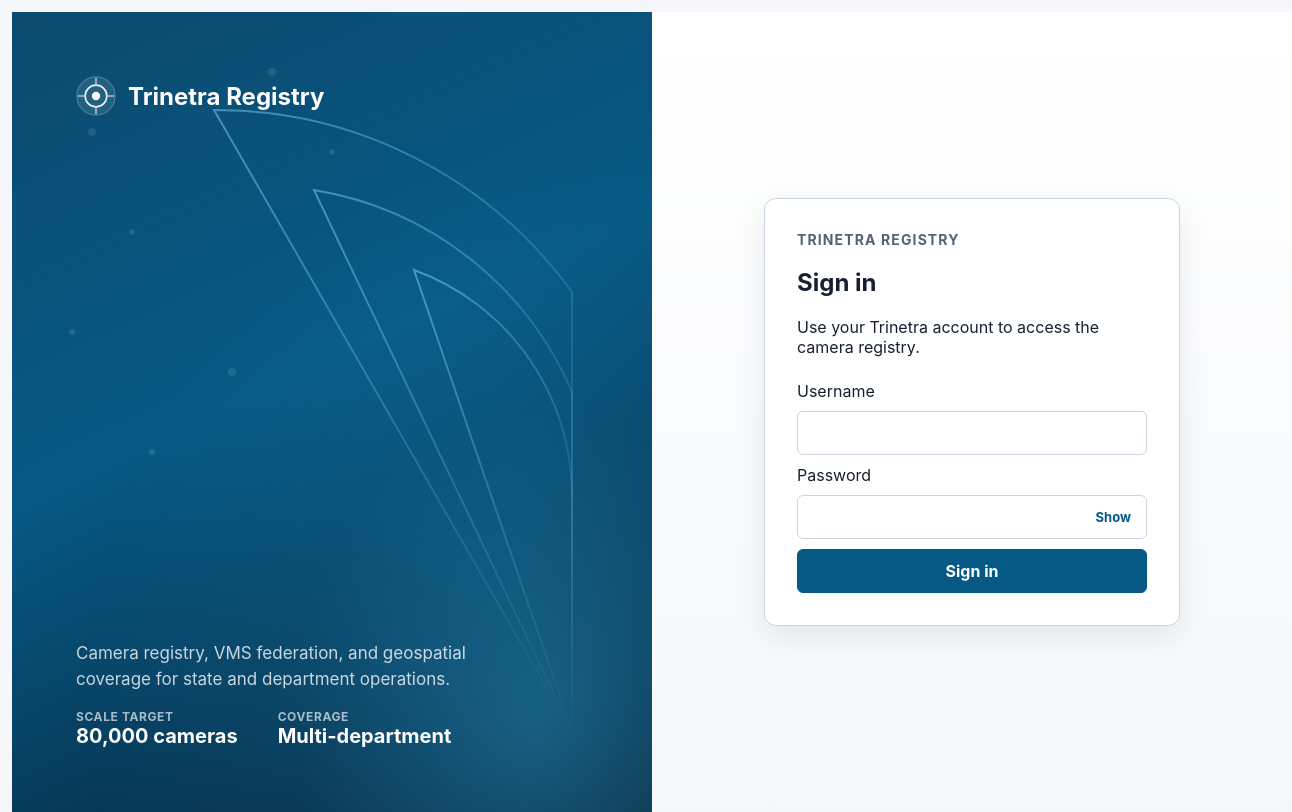
Test: LoginPage › shows a safe inline error when sign-in is rejected
This screenshot has width=1292, height=812.
Type "admin" into the field labelled "Username" at (972, 433), box x1=797 y1=411 x2=1147 y2=455
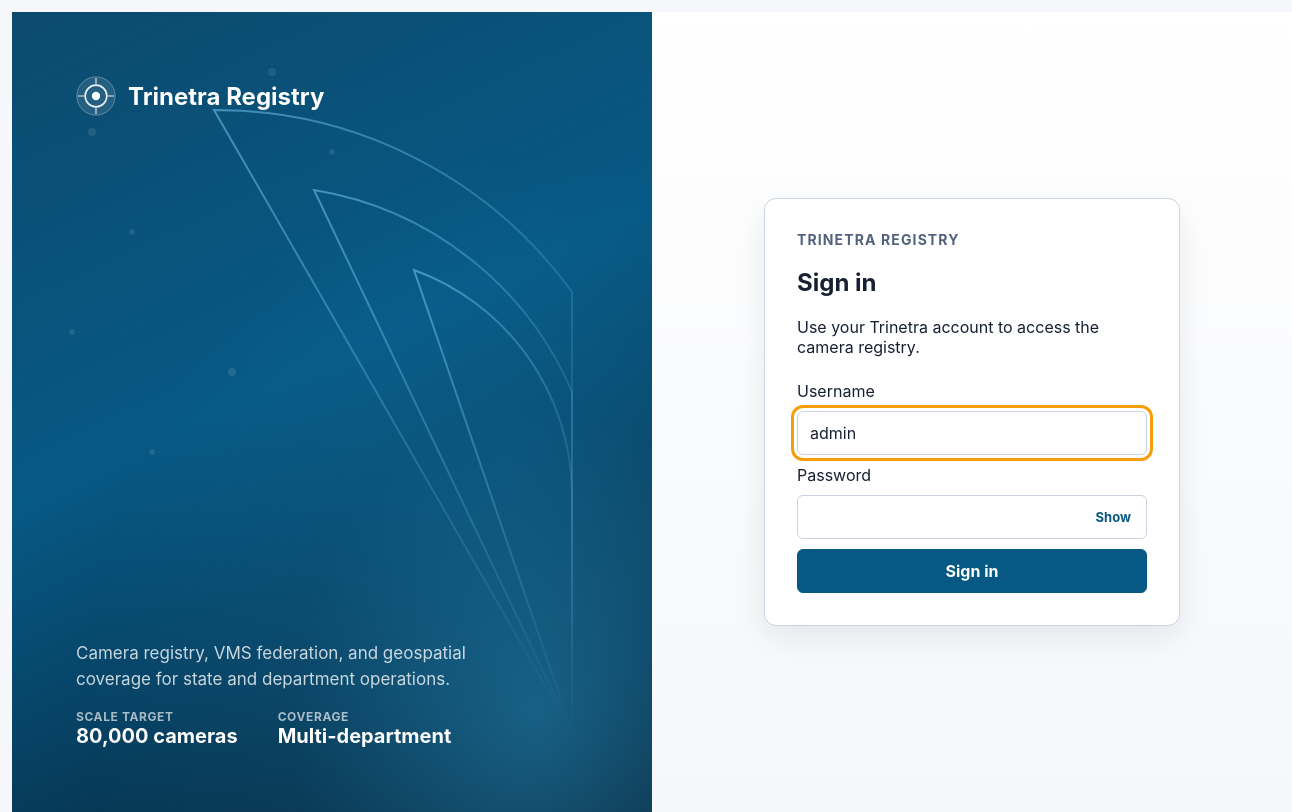
Type "wrong password" into the password field labelled "Password" at (972, 517), box x1=797 y1=495 x2=1147 y2=539
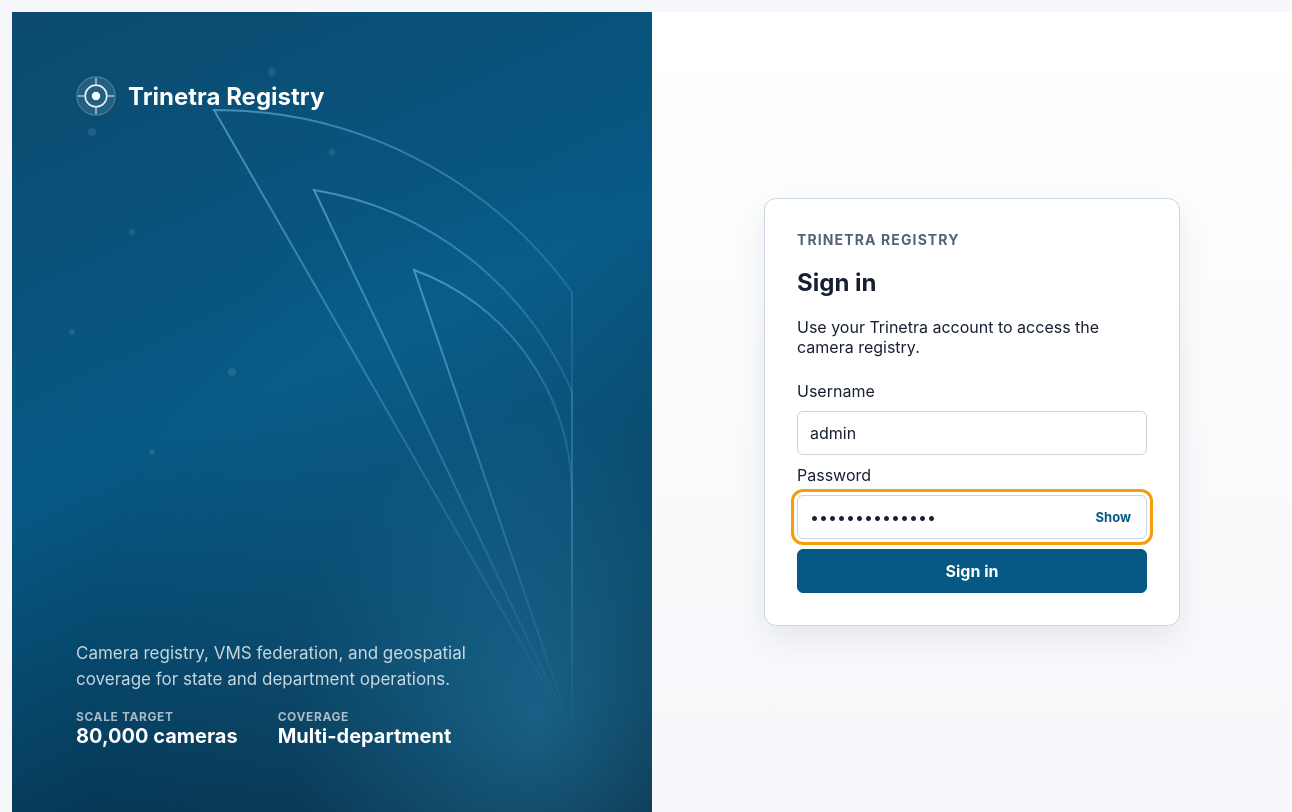
Click the button "Sign in" at (972, 571), box x1=797 y1=549 x2=1147 y2=593
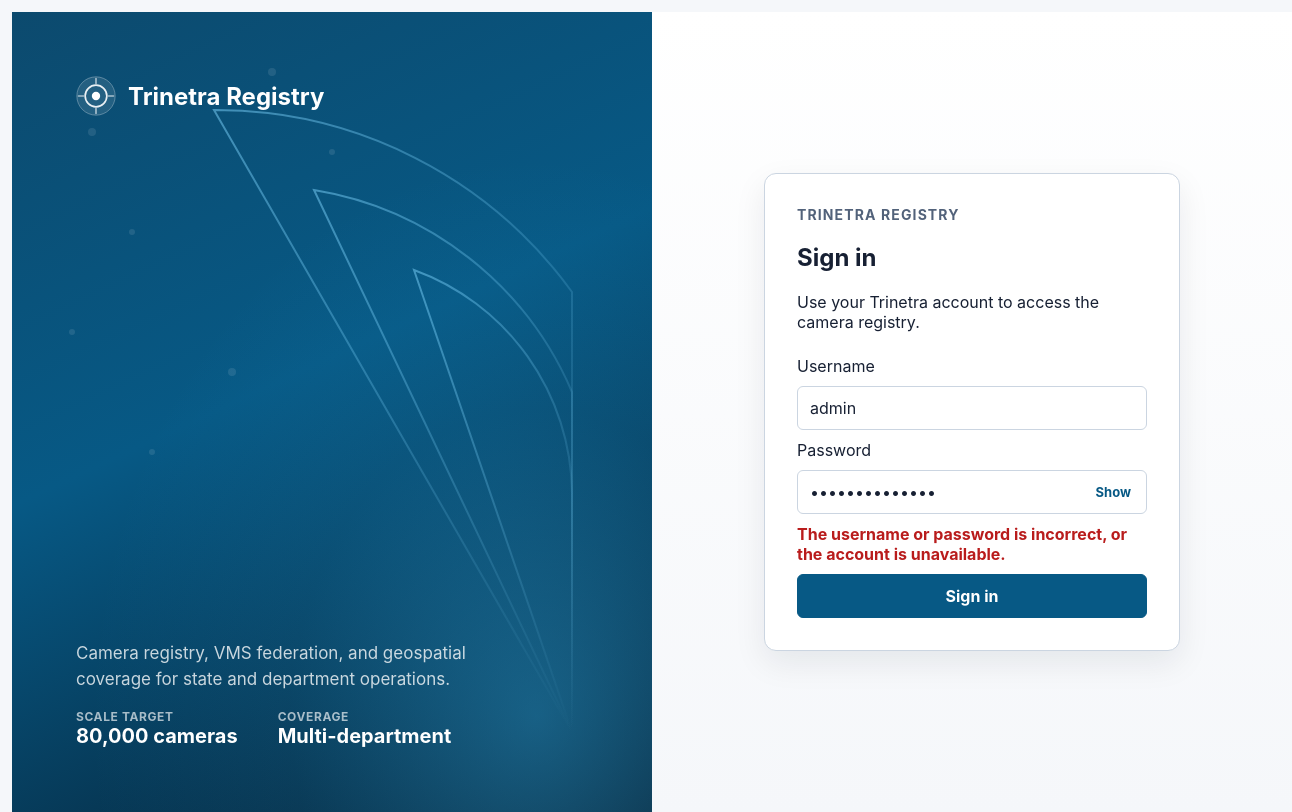
Check: the message reads "The username or password is incorrect, or the account is unavailable.", box x1=797 y1=524 x2=1127 y2=564
